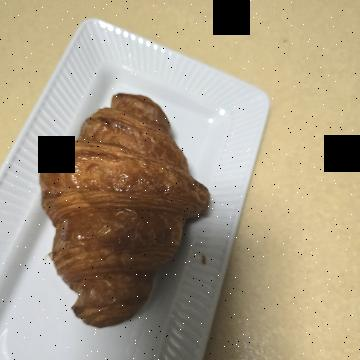croissant: (70, 143, 325, 326)
